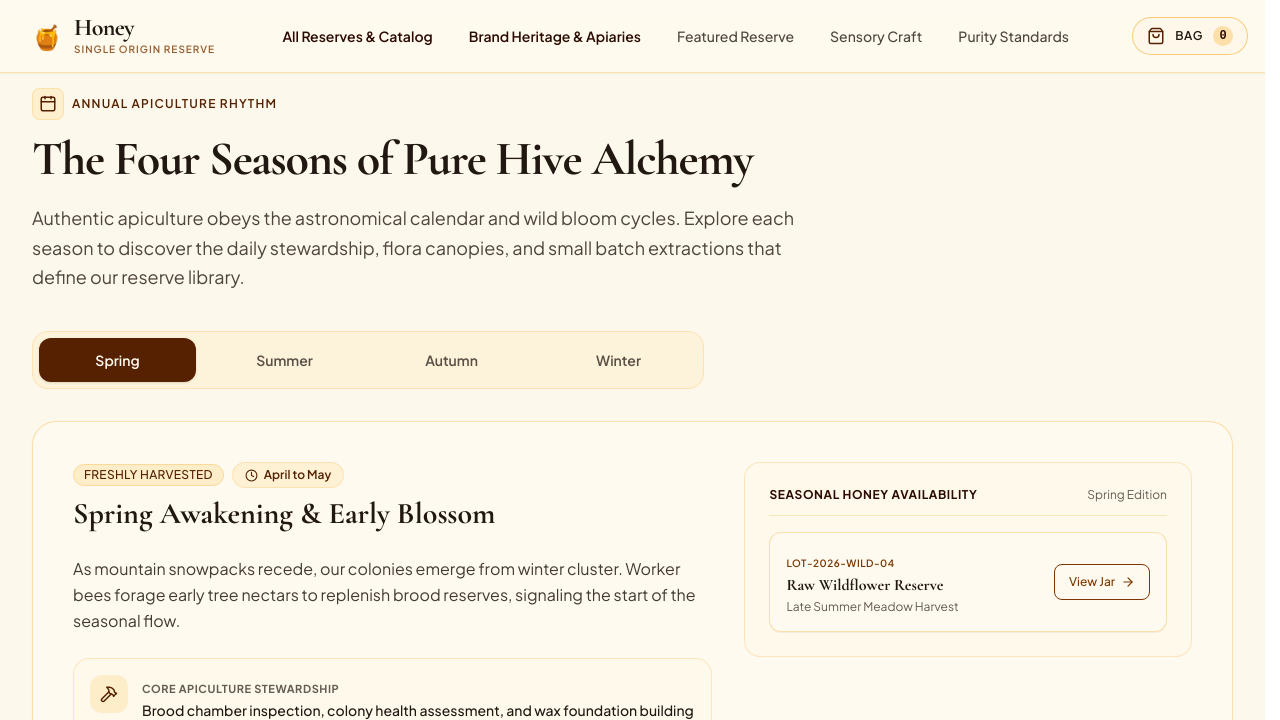
it: Brand Heritage & Apiary Story E2E (Spec 0006) › AC-3 & AC-6: Click Autumn pill in Seasonal Harvest Cycle and verify URL and blooms
(page scrolled)
Click the tab with id "season-tab-autumn" at (452, 360), box [373,338,530,382]
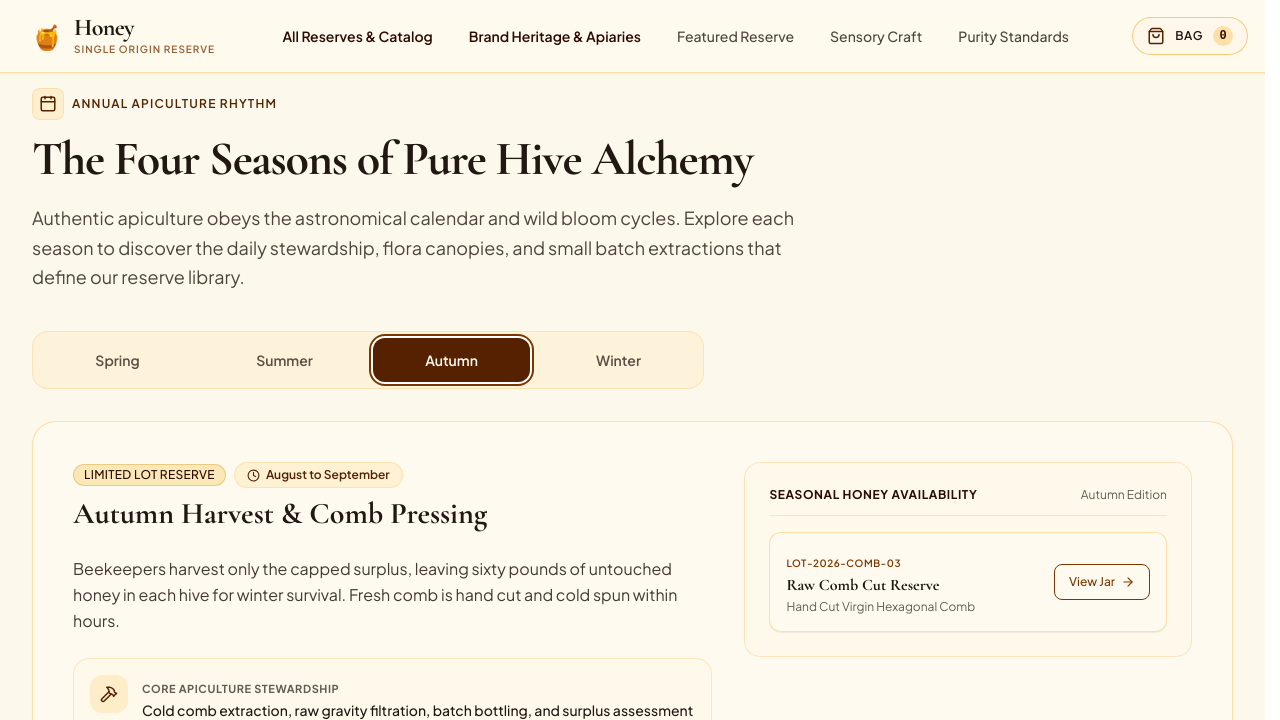
Check: the text "August to September" is shown, box [234,462,403,488]
Check: the heading "Autumn Harvest & Comb Pressing" is shown, box [73,495,487,532]
Check: the text "Cold comb extraction" is shown, box [142,701,693,719]
